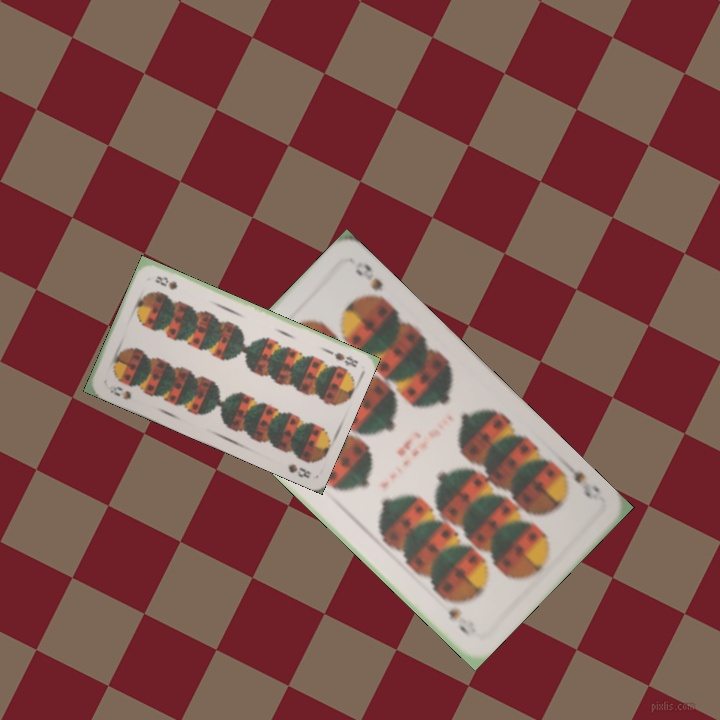S8: (322, 345, 361, 370), (101, 382, 134, 402)
S9: (559, 456, 602, 504)
